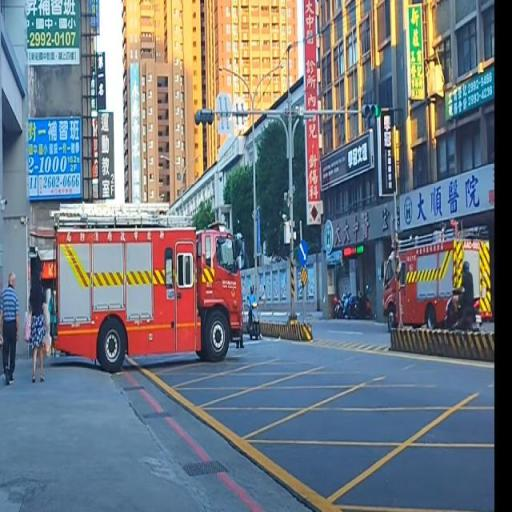fire truck: (47, 192, 245, 367), (382, 218, 488, 333)
